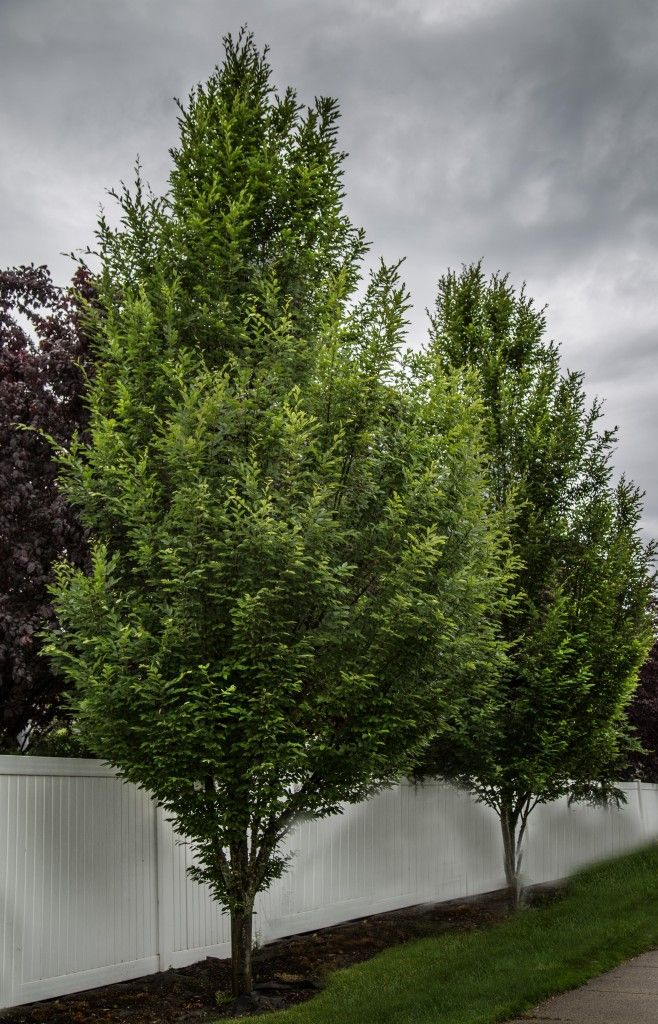tree: (30, 19, 526, 985), (407, 256, 658, 912)
